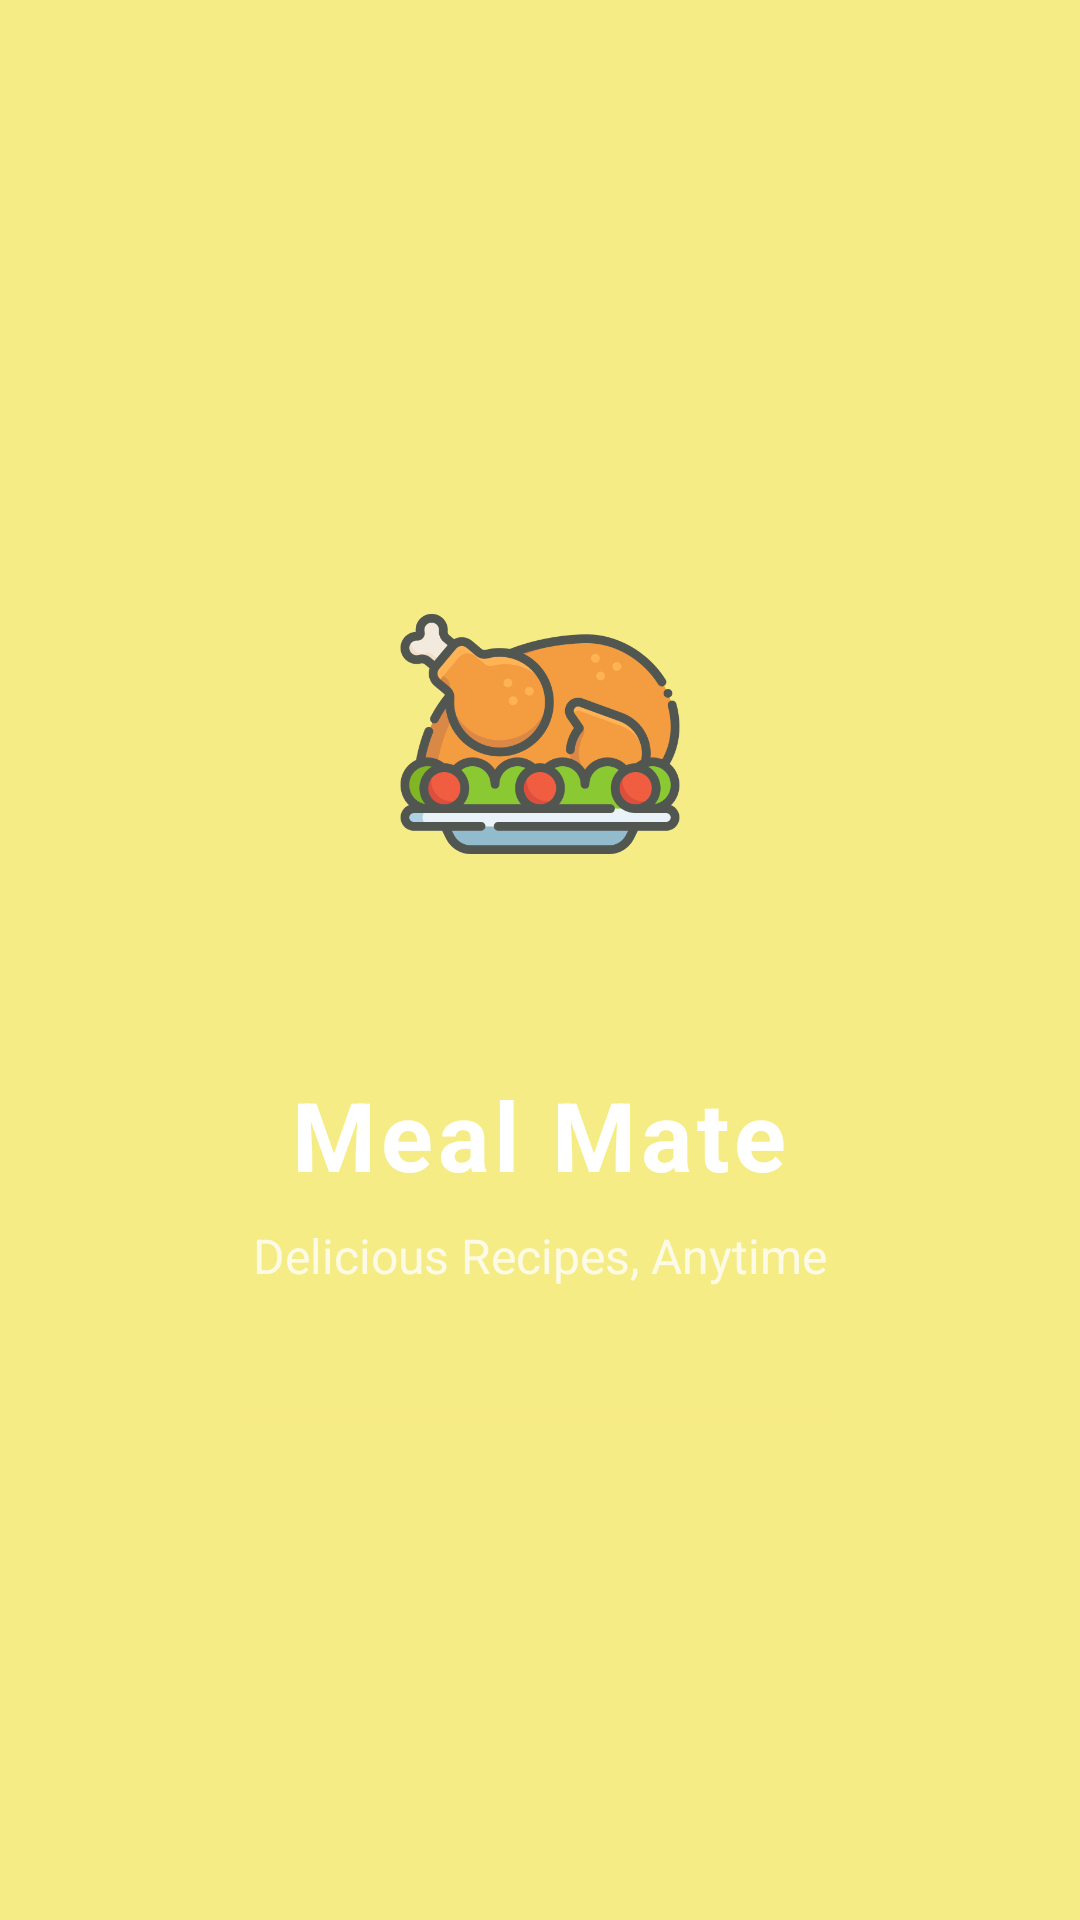

Point at icon controls on the screen. Image size 1080 × 1920, points as (x,y).
meal: (540,734)
